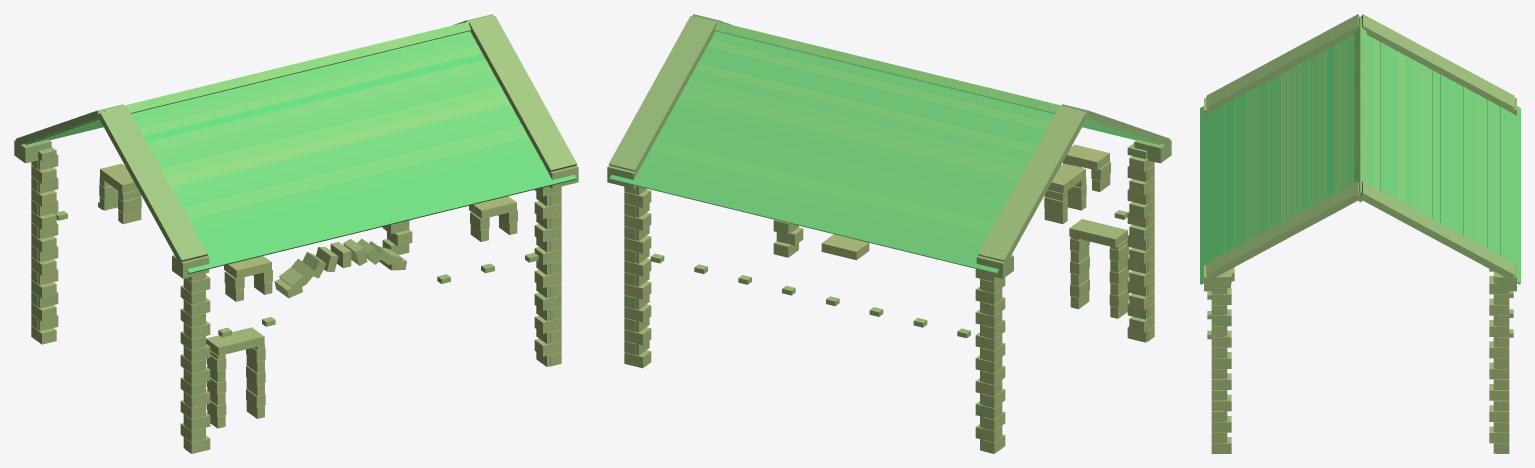
The model's file is SM_Bld_070_Stone.glb.
The picture shows the model from 3 angles, left to right: view 1: azimuth 30°, elevation 25°; view 2: azimuth 150°, elevation 25°; view 3: azimuth 270°, elevation 25°; orthographic projection. The views are drawn at different scales.
Parts seen in each view (by area): view 1: SM_Bld_070_Stone; view 2: SM_Bld_070_Stone; view 3: SM_Bld_070_Stone.
Boxes of the visible parts, <box> form: SM_Bld_070_Stone: <box>14,14,578,453</box>; SM_Bld_070_Stone: <box>607,14,1171,453</box>; SM_Bld_070_Stone: <box>1200,14,1520,453</box>.
Bounding box in the file's own units: 10.83 × 7.51 × 8.19.
